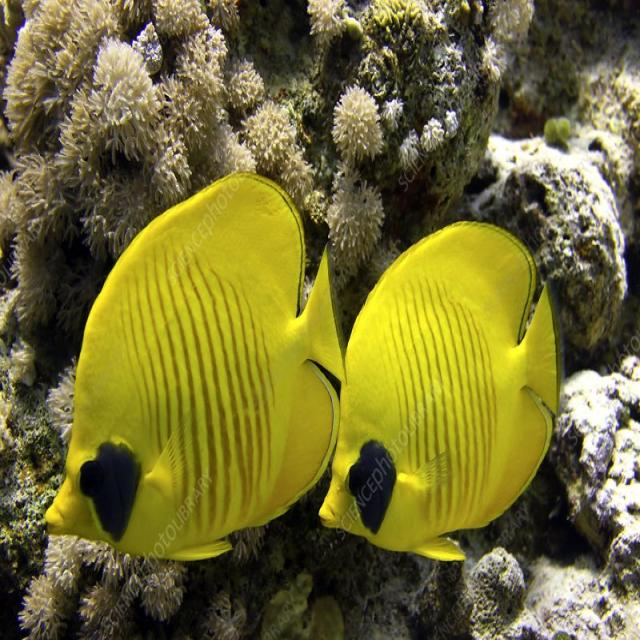ButterflyFish: (43, 176, 344, 594), (318, 222, 556, 564)
